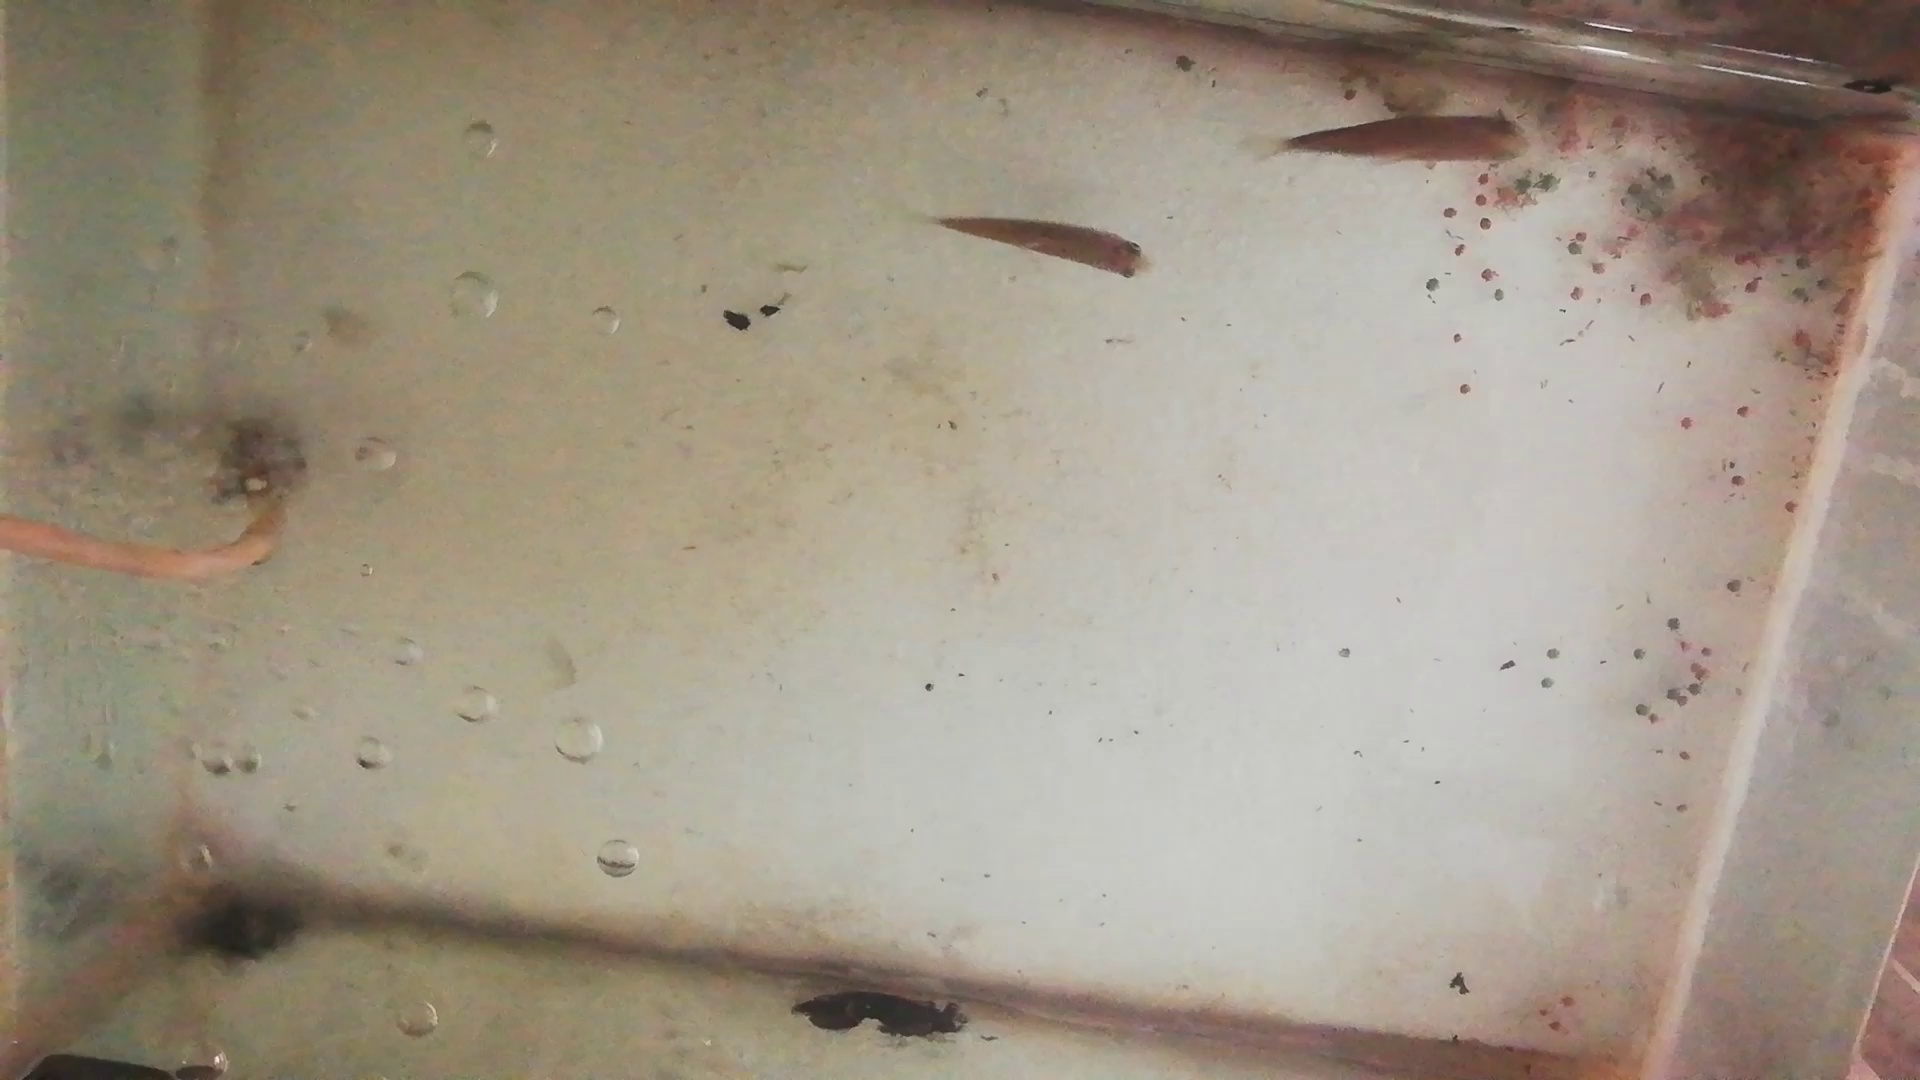fish: (927, 212, 1160, 285), (1286, 113, 1531, 181)
